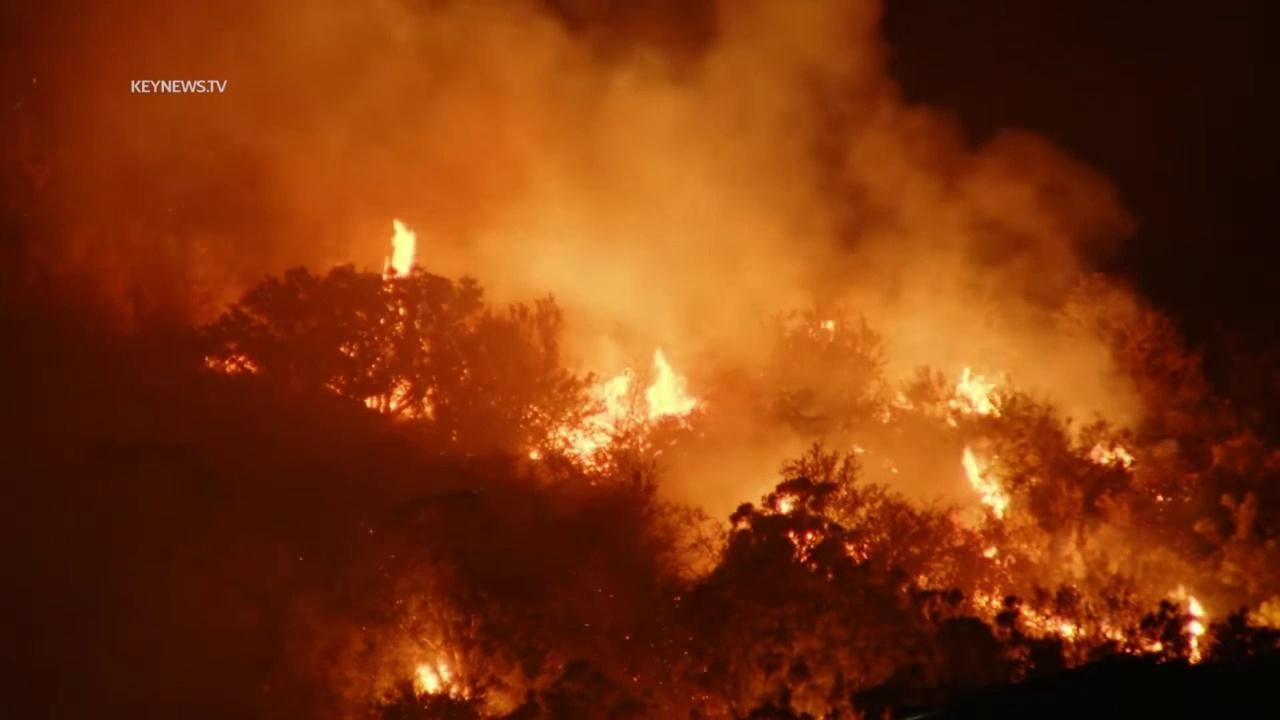fire: (524, 326, 703, 466), (323, 297, 442, 425), (1100, 584, 1220, 665), (969, 588, 1088, 643), (955, 440, 1012, 522), (943, 367, 1005, 428), (378, 218, 421, 294), (199, 340, 269, 380), (408, 659, 458, 700), (1087, 437, 1142, 469), (785, 527, 819, 570), (767, 491, 800, 515), (813, 316, 838, 333), (979, 543, 1002, 561), (846, 441, 868, 456), (888, 465, 900, 476), (1154, 493, 1167, 503)
smoke: (0, 0, 1280, 720)
